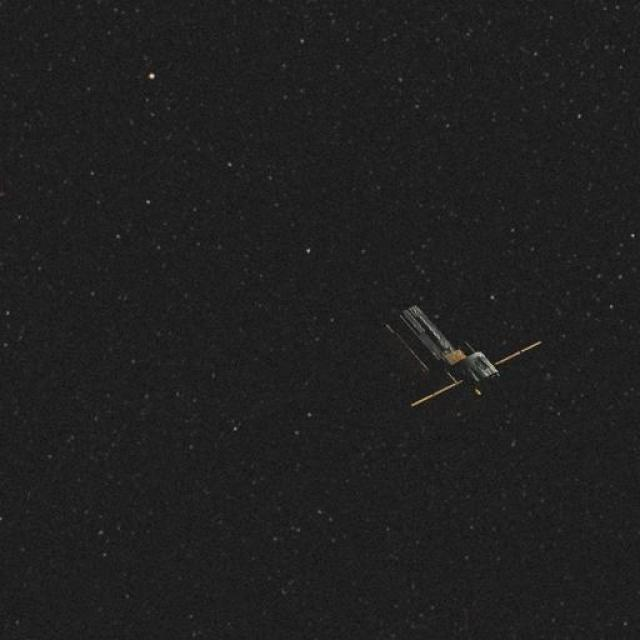soho: (361, 286, 538, 422)
